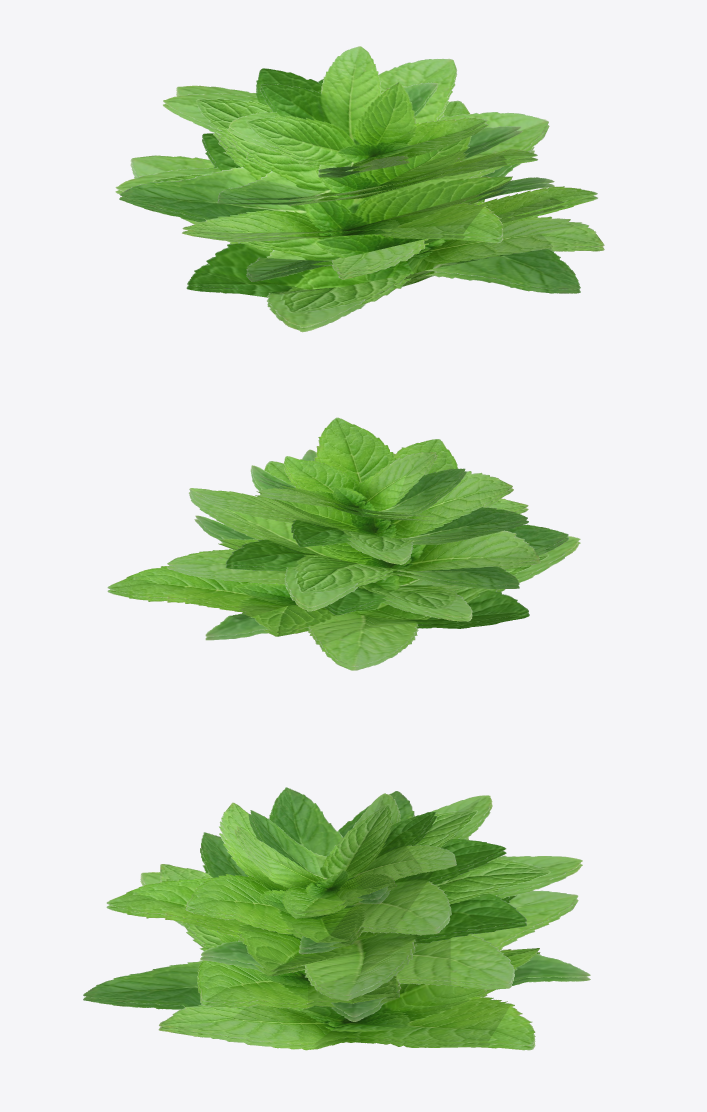
Rendered from Mint.fbx.
3 views of the same model, one above another, from view 1: azimuth 30°, elevation 25°; view 2: azimuth 150°, elevation 25°; view 3: azimuth 270°, elevation 25° (orthographic). The views are drawn at different scales.
Visible parts, largest first — view 1: Mint.001; view 2: Mint.001; view 3: Mint.001.
Part boxes in pixels (x1,y1,x2,y2): Mint.001: (115,46,604,332); Mint.001: (107,417,580,670); Mint.001: (83,787,590,1050).
Bounding box in the file's own units: 417 × 126 × 417.
